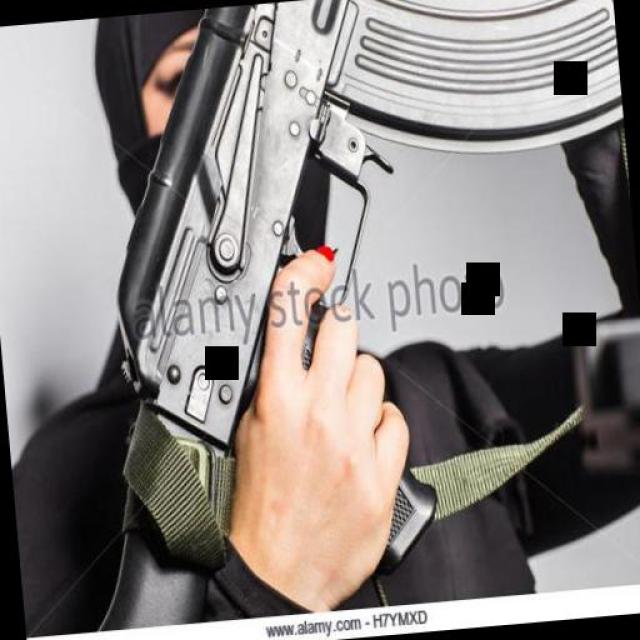gun: (40, 0, 454, 630)
